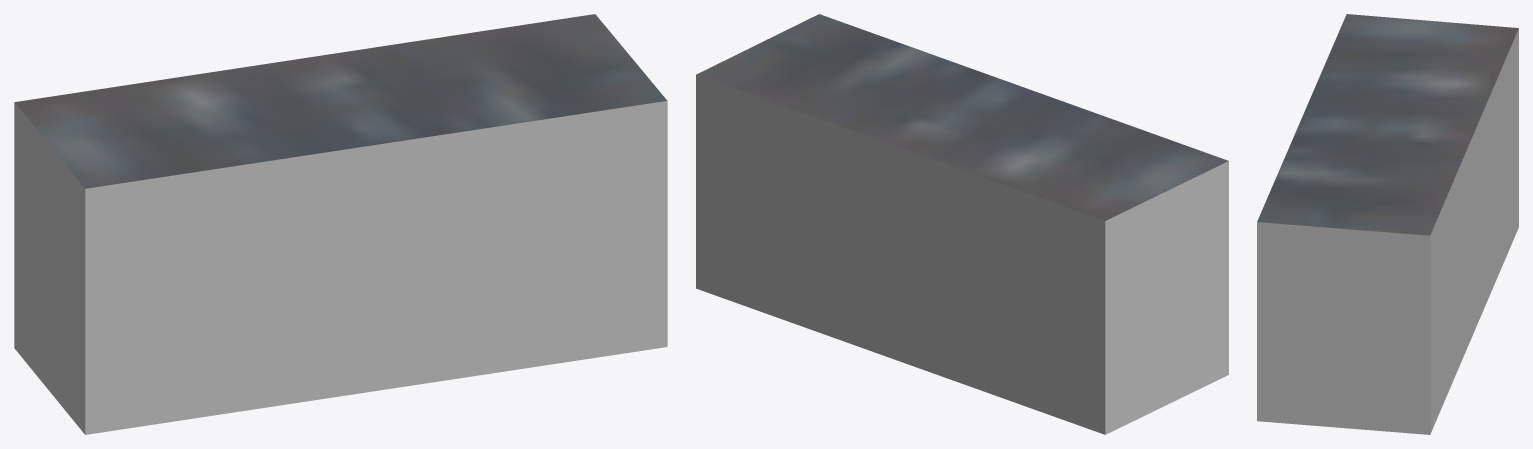
The model's file is DEBW_0010007THTf.gltf.
The picture shows the model from 3 angles, left to right: view 1: azimuth 30°, elevation 25°; view 2: azimuth 150°, elevation 25°; view 3: azimuth 270°, elevation 25°; orthographic projection. The views are drawn at different scales.
Parts seen in each view (by area): view 1: Z_UP; view 2: Z_UP; view 3: Z_UP.
Part boxes in pixels (x1,y1,x2,y2): Z_UP: (14,14,667,434); Z_UP: (696,14,1228,434); Z_UP: (1257,14,1518,434).
Bounding box in the file's own units: 5.97 × 2.5 × 2.98.
Materials: 2 (1 with a texture image).
